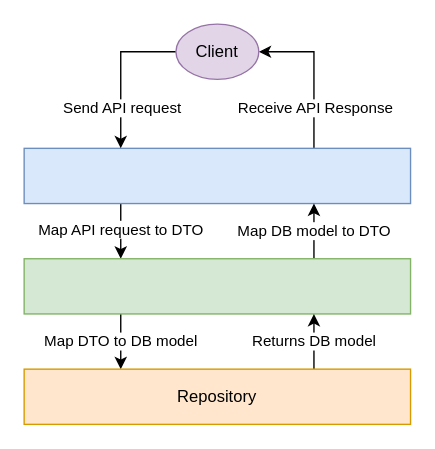
The diagram is 435 pixels wide and 449 high, and some of its shapes have lost their labels. The centre of each missing label's shape, as x and y in pixels:
"Controller" goes at [217,175].
"Service" goes at [217,285].
